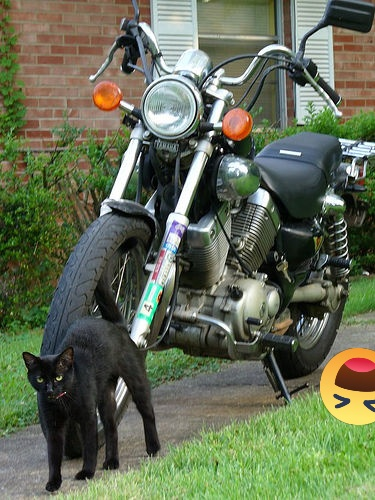haha: (320, 348, 375, 425)
